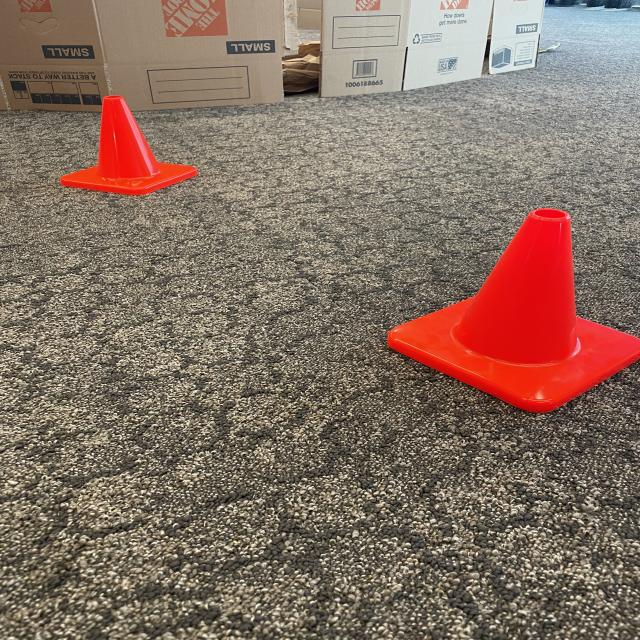Traffic Cone: (374, 201, 640, 426), (55, 92, 204, 204)
